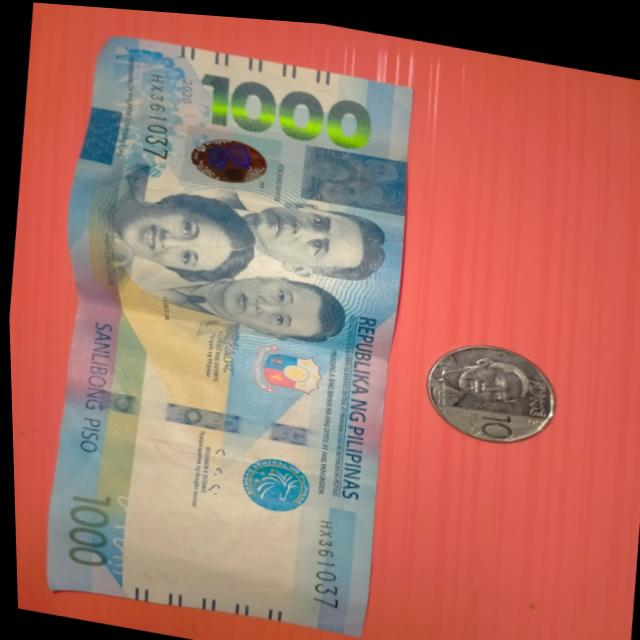concealed_value: (289, 133, 407, 211)
optically_variable_device: (175, 116, 284, 192)
see_through_mark: (91, 481, 142, 578)
